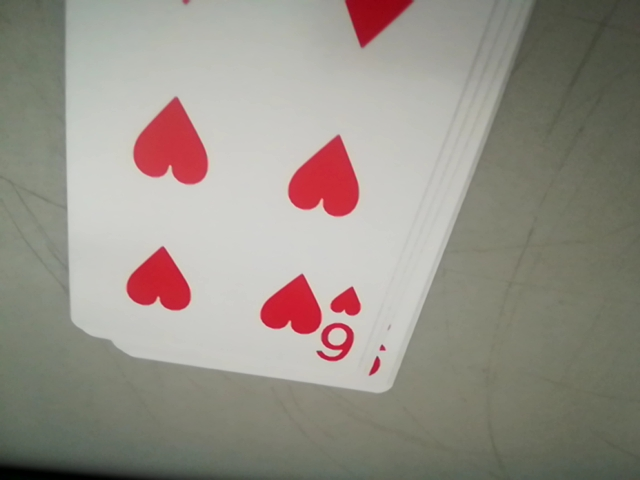hx 6: (316, 279, 373, 381)
